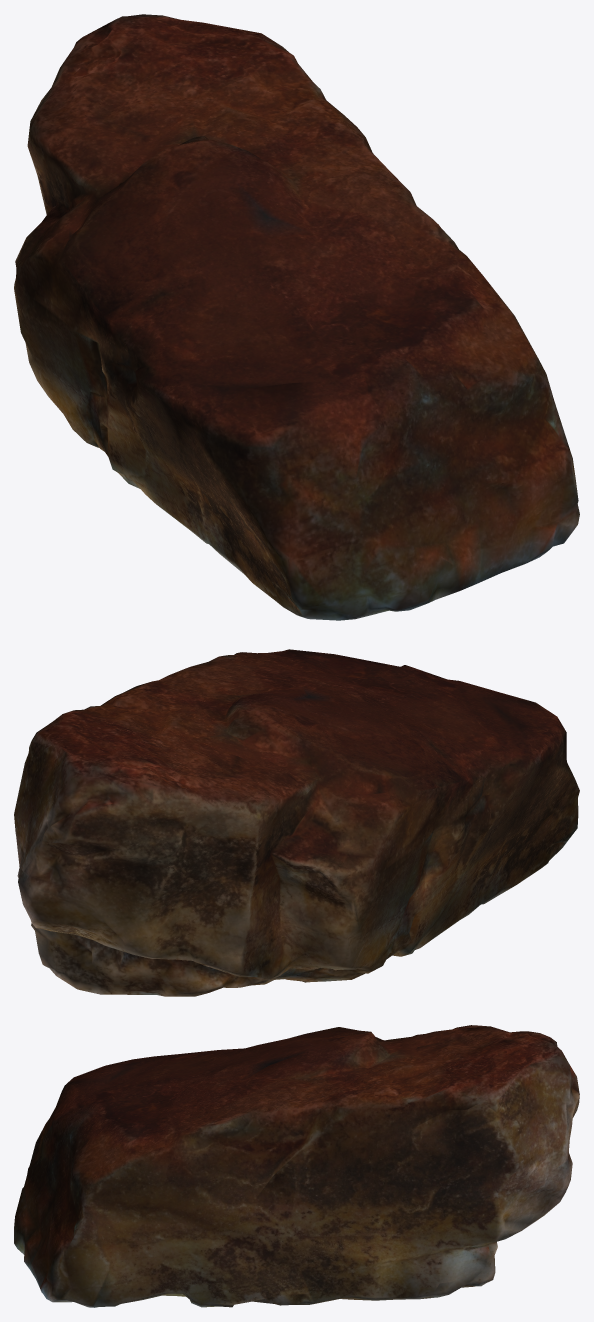
The model's file is rock_07_1k.glb.
3 renders of one model, top to bottom at view 1: azimuth 30°, elevation 25°; view 2: azimuth 150°, elevation 25°; view 3: azimuth 270°, elevation 25°, orthographic. The views are drawn at different scales.
Visible parts, largest first — view 1: rock_07; view 2: rock_07; view 3: rock_07.
Part boxes in pixels (x1=…): rock_07: x1=14, y1=14, x2=579, y2=620; rock_07: x1=14, y1=649, x2=579, y2=996; rock_07: x1=14, y1=1025, x2=579, y2=1307.
Bounding box in the file's own units: 0.1681 × 0.1437 × 0.3199.
Materials: 1 (1 with a texture image).
